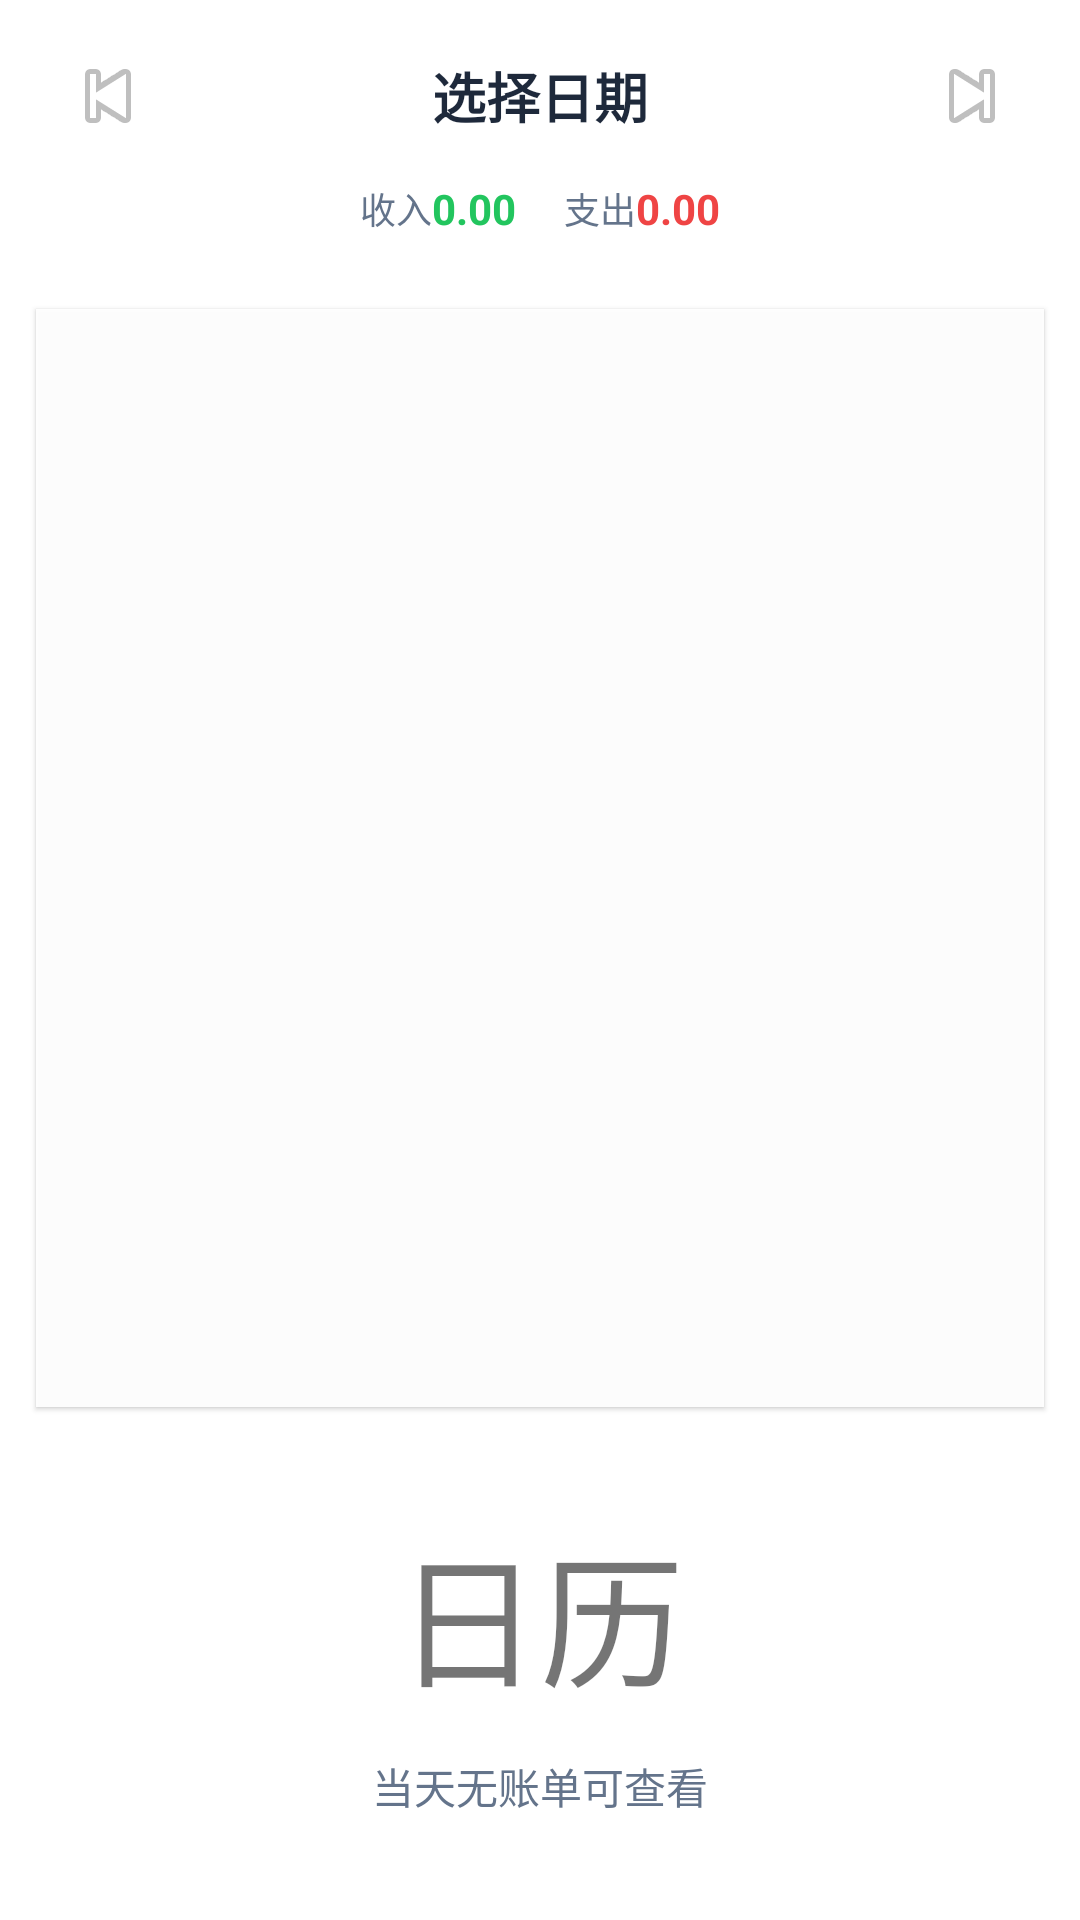

Icon bounding boxes for this 1080px×1920px phone screenshot, format (x1, y1, x2, y2):
上一月: (85, 69, 131, 123)
下一月: (949, 69, 995, 123)
